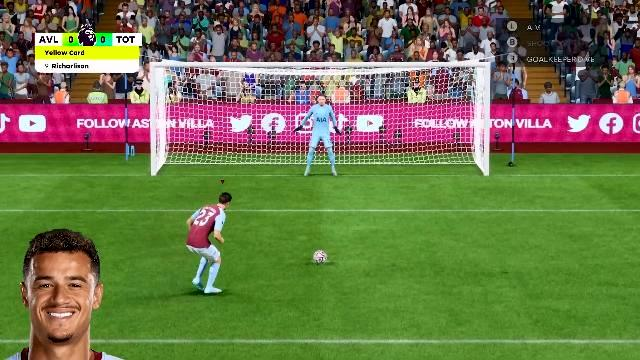bottom-left: (166, 132, 270, 180)
bottom-right: (366, 130, 472, 178)
center-down: (272, 131, 362, 179)
center-up: (273, 75, 363, 129)
football: (314, 250, 326, 262)
goalkeeper: (298, 95, 338, 185)
player: (180, 192, 238, 296)
top-left: (167, 75, 269, 129)
top-right: (365, 76, 473, 128)
